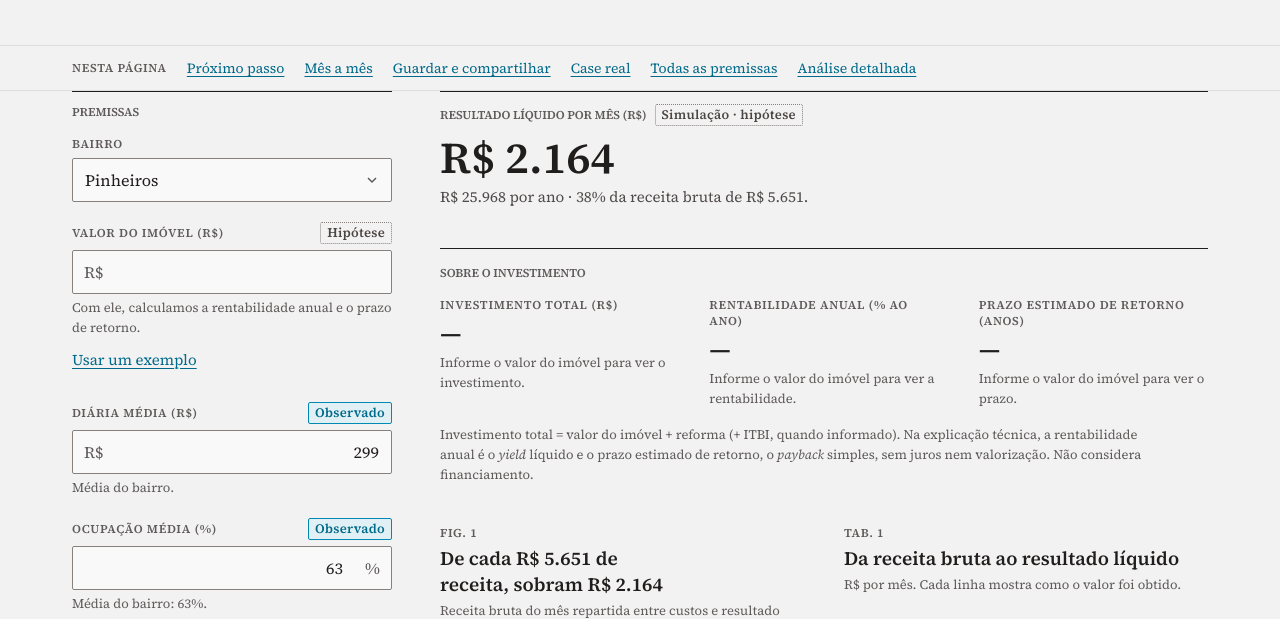
/projecao: valor do imóvel no essencial e custos recolhidos (auditoria de UX, 15/11/2026) › "Usar um exemplo" preenche o valor do estudo, rotula como hipótese e libera a rentabilidade
(page scrolled)
Click the button "Usar um exemplo" at (134, 360), box [72,338,197,382]
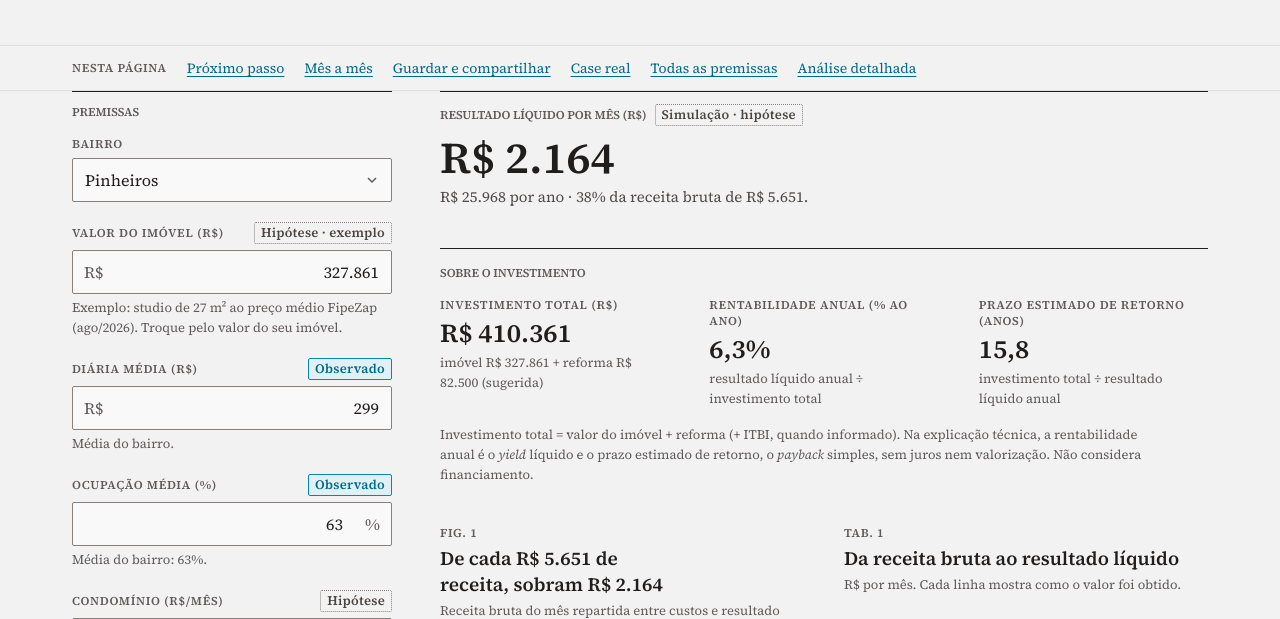
Result: the text "Hipótese · exemplo" is shown at [254,222,392,244]
Result: the text "ao preço médio FipeZap" is shown at [72,299,377,336]
Result: the text "Informe o valor do imóvel para ver a rentabilidade." is gone
